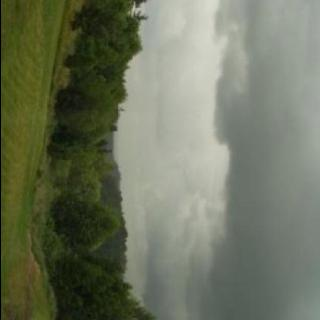Nimbostratus: (107, 0, 320, 320)
